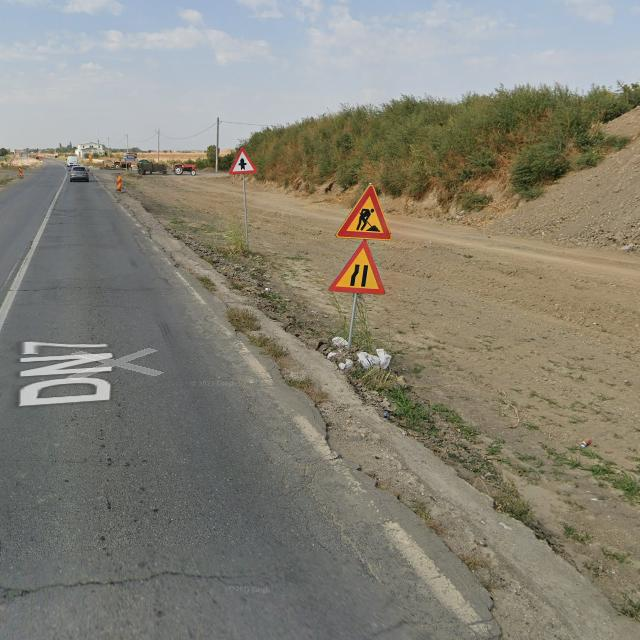warn_construction: (336, 184, 391, 240)
